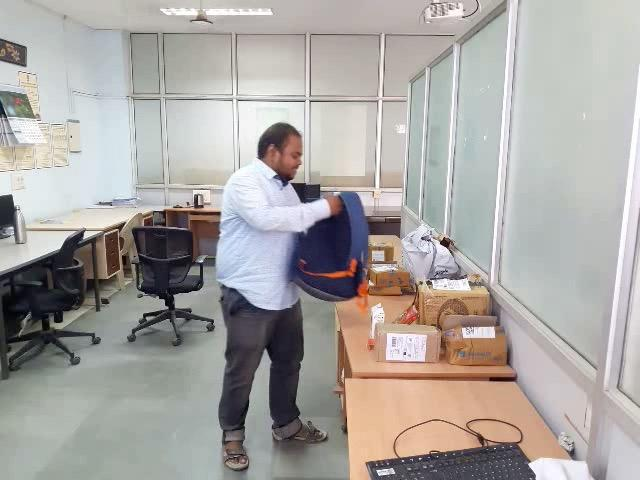shoplifting: (199, 171, 383, 381)
